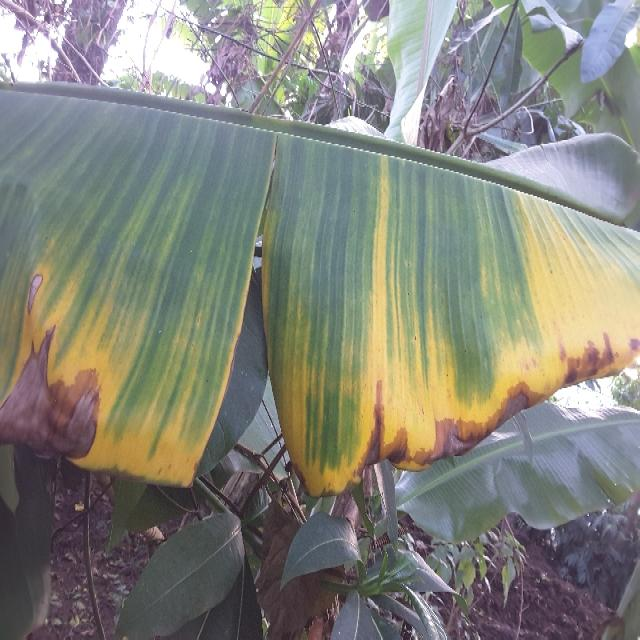Cordana: (268, 152, 640, 509), (0, 163, 259, 507)
